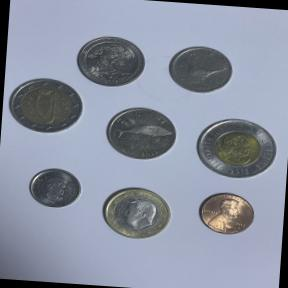1 Euro-B: (95, 180, 178, 244)
2 Euro-B: (2, 73, 87, 140)
Canada-10cent-B: (24, 164, 85, 212)
Canada-2Dollar-B: (189, 110, 283, 188)
Croatia-2Kune-B: (98, 99, 183, 169)
US-1cent-B: (192, 186, 260, 238)
US-25cent-B: (72, 29, 150, 93)
